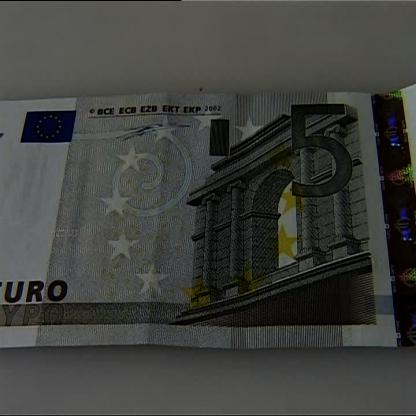euro_banknote: (1, 84, 416, 350)
